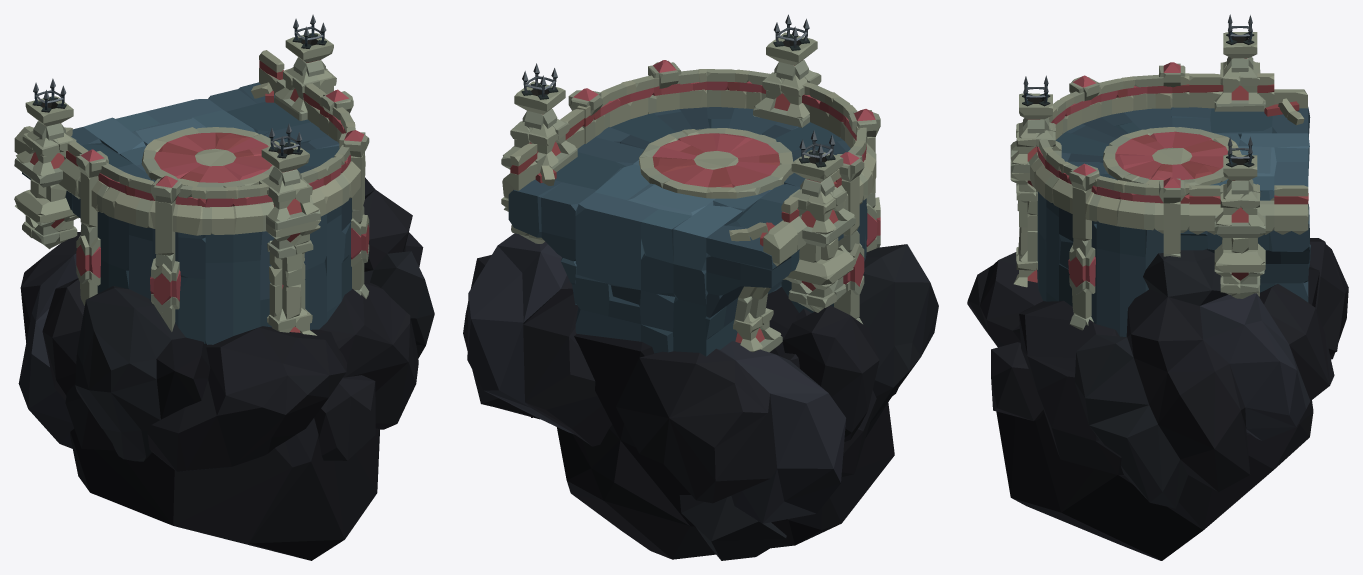
The model's file is hallway_cap.fbx.
3 views of the same model, side by side, from view 1: azimuth 30°, elevation 25°; view 2: azimuth 150°, elevation 25°; view 3: azimuth 270°, elevation 25° (orthographic). The views are drawn at different scales.
Visible parts, largest first — view 1: hallway_cap; view 2: hallway_cap; view 3: hallway_cap.
Part boxes in pixels (x1,y1,x2,y2): hallway_cap: (14,14,434,560); hallway_cap: (463,14,938,560); hallway_cap: (967,14,1348,560).
Size of the model in its own units: 1230 by 1459 by 1121.
